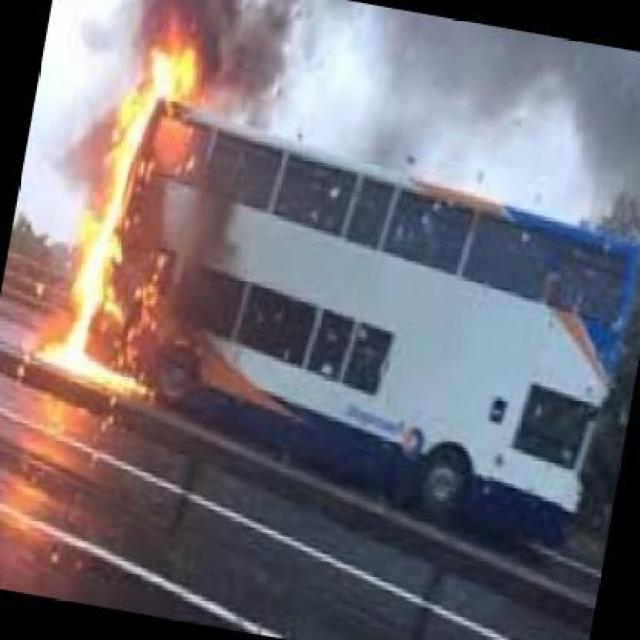Fire: (49, 56, 202, 405)
Smoke: (373, 43, 640, 202), (122, 0, 316, 46), (220, 59, 293, 121)
